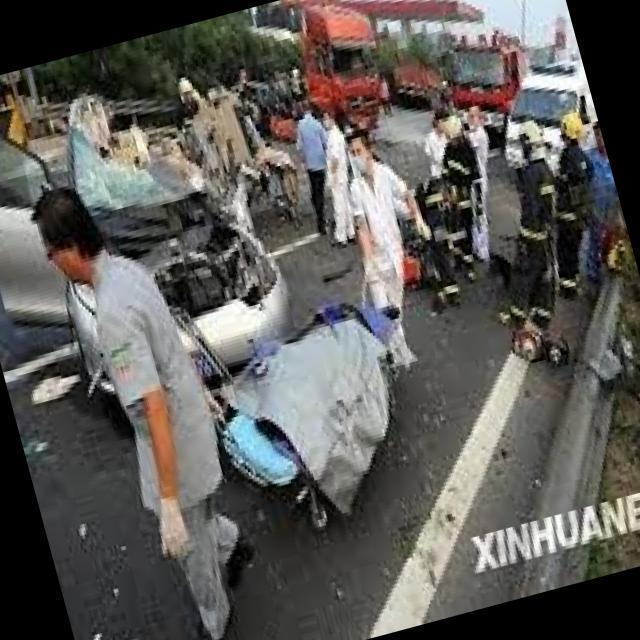accident: (18, 48, 325, 431)
